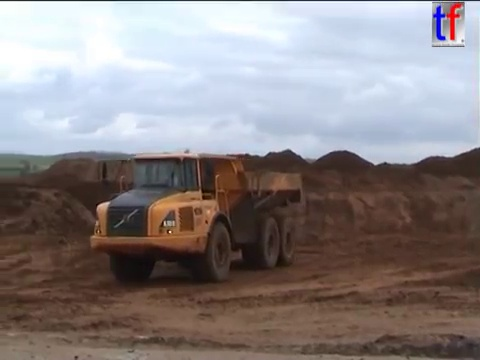truck: (86, 149, 305, 284)
